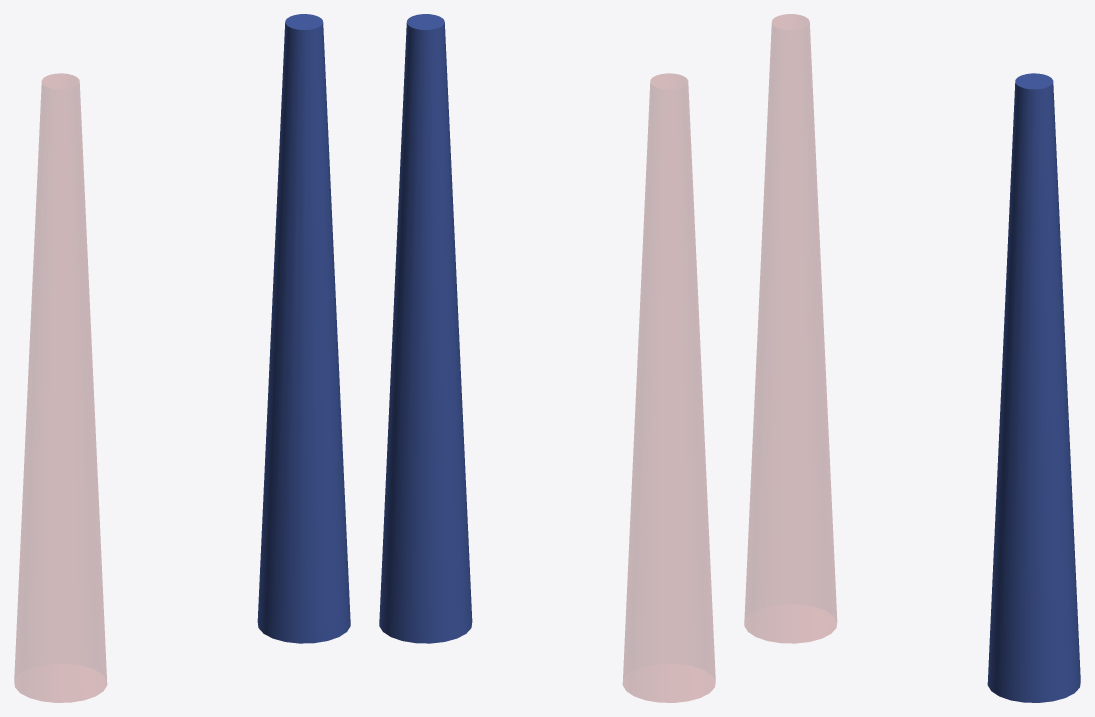
File: lightBeam.fbx
3 renders of one model, left to right at view 1: azimuth 30°, elevation 25°; view 2: azimuth 150°, elevation 25°; view 3: azimuth 330°, elevation 25°, orthographic.
Parts seen in each view (by area): view 1: pCylinder1, pCylinder2; view 2: pCylinder1, pCylinder2; view 3: pCylinder1, pCylinder2.
Boxes of the visible parts, box(x1,y1,x2,y2) form: pCylinder1: box(257, 14, 350, 643); pCylinder2: box(14, 73, 106, 702); pCylinder1: box(379, 14, 472, 643); pCylinder2: box(623, 73, 715, 702); pCylinder1: box(987, 73, 1080, 702); pCylinder2: box(744, 14, 836, 643).
Size of the model in its own units: 19.59 by 4.89 by 34.71.
